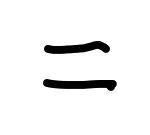eqv: (44, 40, 117, 91)
